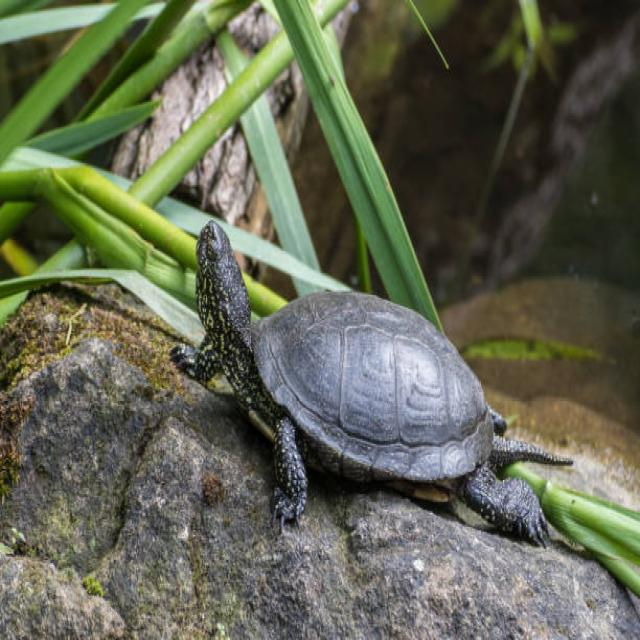terrapin: (186, 265, 550, 488), (473, 453, 578, 552), (187, 212, 268, 334), (270, 413, 318, 544)
